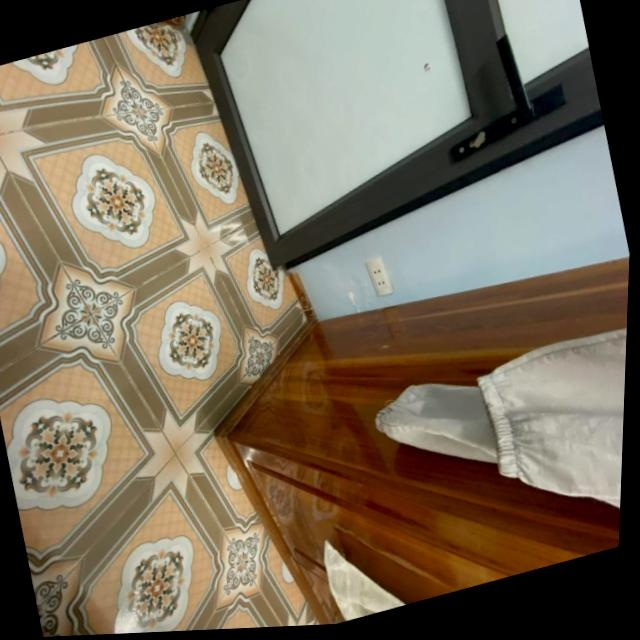outlet: (362, 253, 395, 299)
